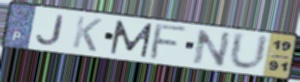F: (146, 23, 191, 61)
J: (34, 13, 66, 47)
K: (70, 14, 104, 54)
M: (109, 18, 155, 59)
N: (191, 28, 234, 69)
U: (227, 30, 271, 73)
